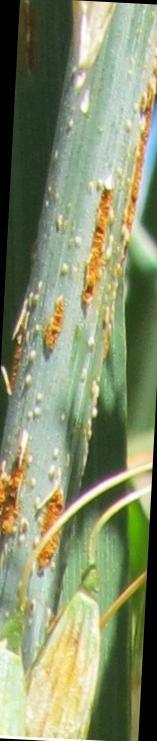Wheat: (28, 44, 157, 370), (0, 391, 75, 579)
